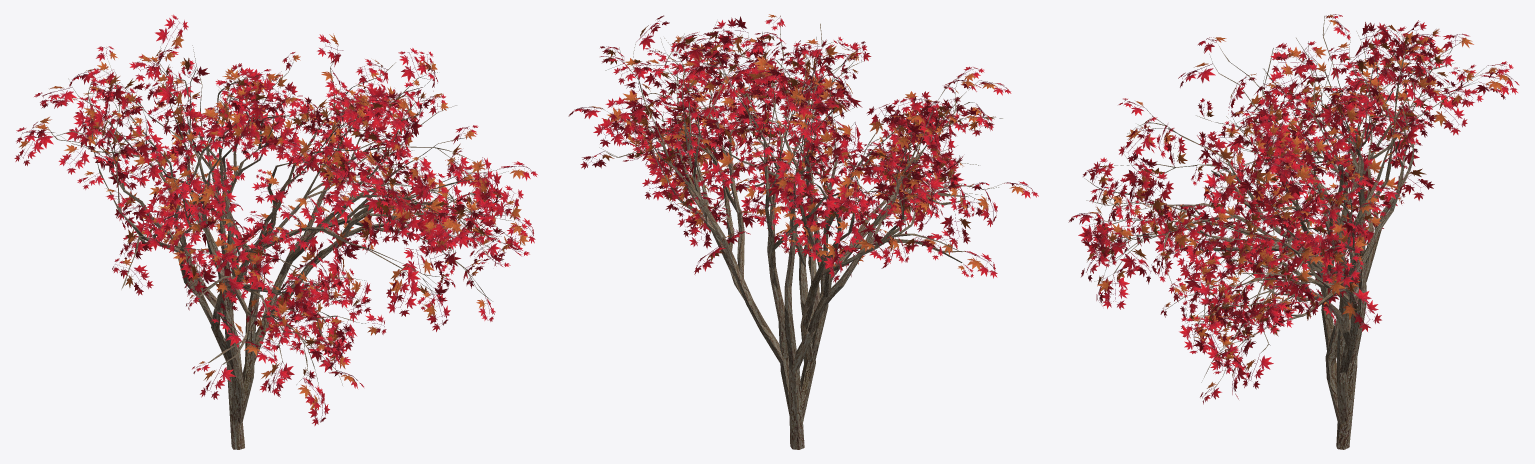
File: japaneseMaple.obj
3 views of the same model, side by side, from view 1: azimuth 30°, elevation 25°; view 2: azimuth 150°, elevation 25°; view 3: azimuth 270°, elevation 25° (orthographic).
Parts seen in each view (by area): view 1: Twig.062_Plane, tree_CUtree; view 2: Twig.062_Plane, tree_CUtree; view 3: Twig.062_Plane, tree_CUtree.
Boxes of the visible parts, left/top/right/bottom form: Twig.062_Plane: left=14, top=14, right=537, bottom=425; tree_CUtree: left=35, top=45, right=524, bottom=449; Twig.062_Plane: left=568, top=14, right=1038, bottom=282; tree_CUtree: left=599, top=16, right=1005, bottom=449; Twig.062_Plane: left=1068, top=14, right=1519, bottom=404; tree_CUtree: left=1084, top=16, right=1488, bottom=449.
Bounding box in the file's own units: 790 × 700 × 697.
2 materials, 2 textured.
